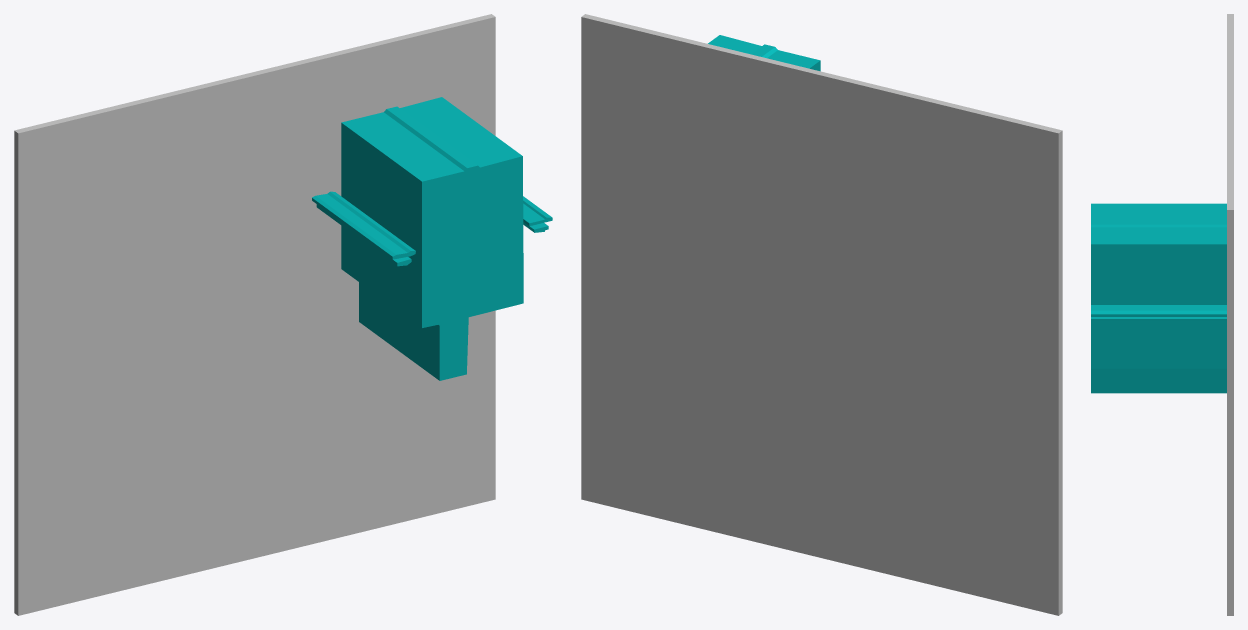
3 views of the same model, side by side, from view 1: azimuth 30°, elevation 25°; view 2: azimuth 150°, elevation 25°; view 3: azimuth 270°, elevation 25° (orthographic). The views are drawn at different scales.
Visible parts, largest first — view 1: world; view 2: world; view 3: world.
Boxes of the visible parts, x1,y1,x2,y2 form: world: (14,14,552,615); world: (581,14,1062,615); world: (1091,14,1233,615).
Bounding box in the file's own units: 10.23 × 9.88 × 3.15.
